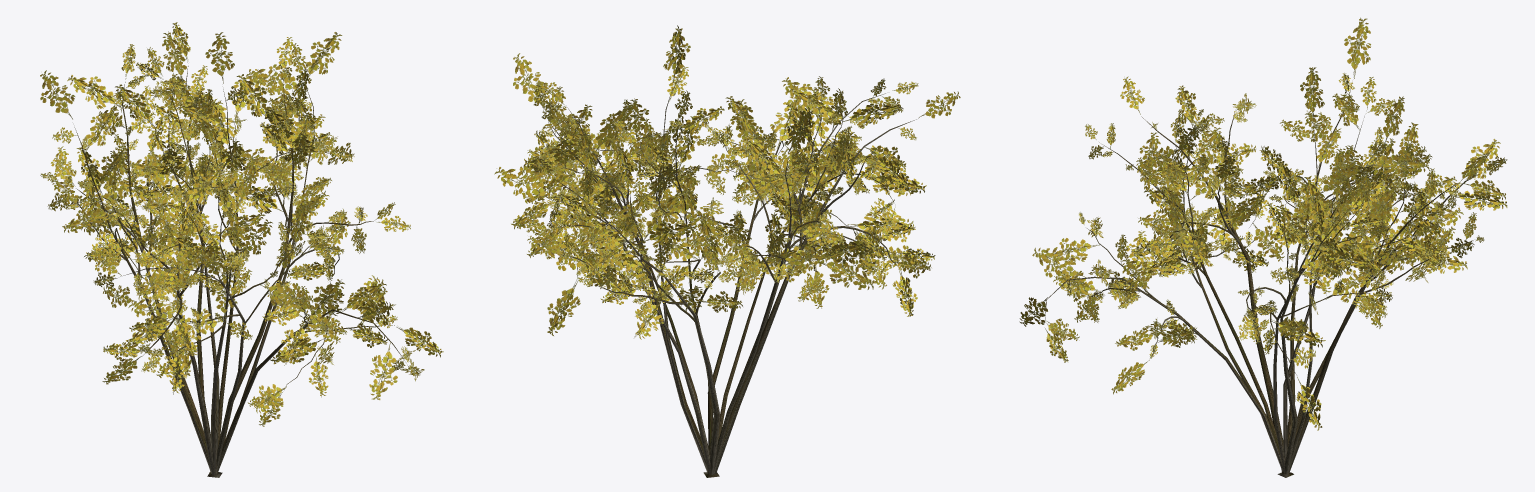
File: Arbusto2.glb
The picture shows the model from 3 angles, left to right: view 1: azimuth 30°, elevation 25°; view 2: azimuth 150°, elevation 25°; view 3: azimuth 270°, elevation 25°; orthographic projection. The views are drawn at different scales.
Bounding box in the file's own units: 26.66 × 30.86 × 34.79.
Materials: 2 (2 with a texture image).
